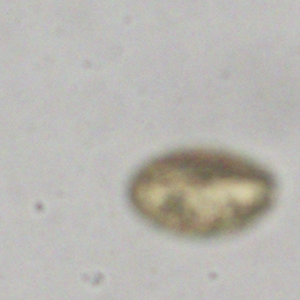Fasciola_hepatica_egg: (127, 144, 278, 235)
